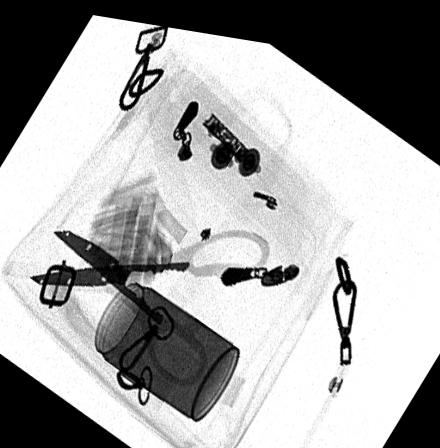Scissors: (24, 218, 269, 385)
